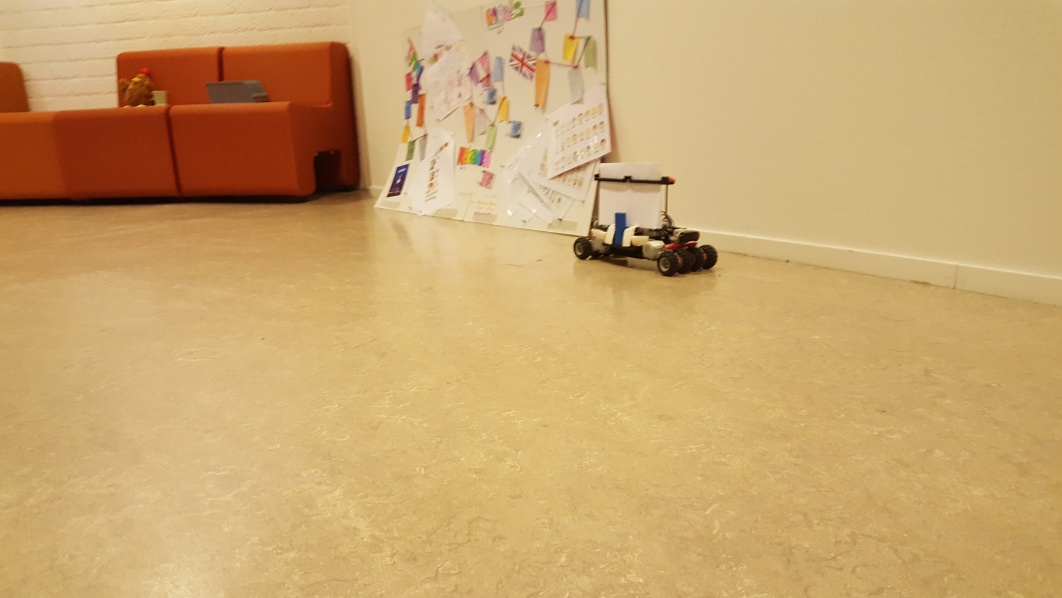car: (572, 159, 720, 278)
chicken: (119, 65, 153, 109)
cup: (150, 86, 170, 109)
tray: (207, 77, 267, 103)
